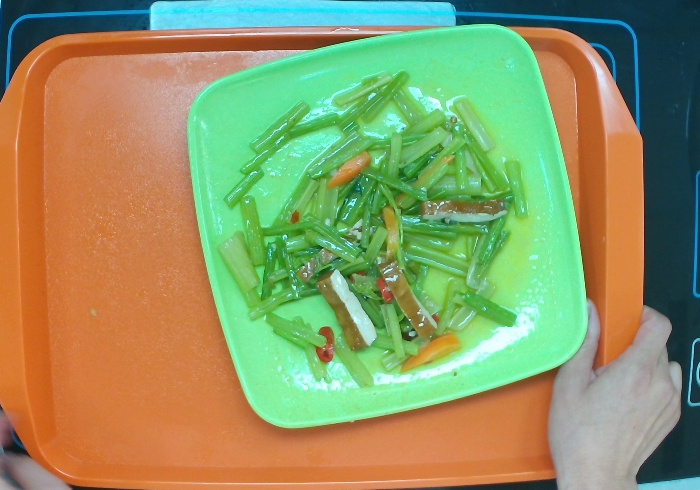ZNLD-Lv_Fang_Pan: (185, 23, 589, 431)
